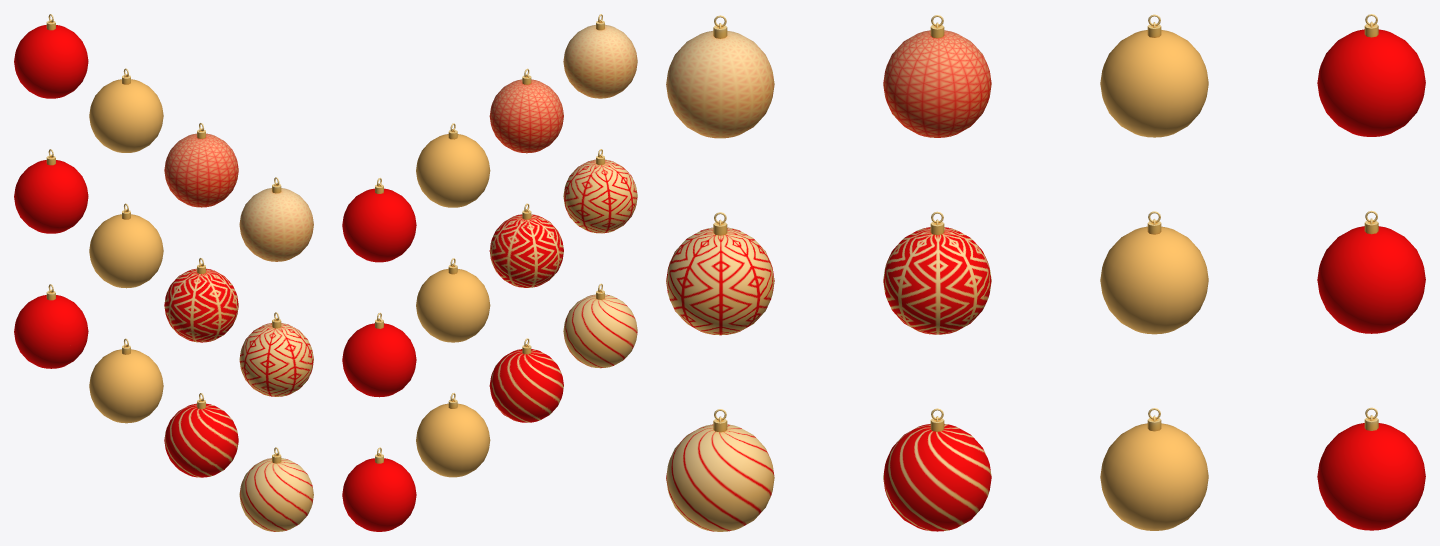
File: game_ready__free_christmas_tree_balls.glb
3 views of the same model, side by side, from view 1: azimuth 30°, elevation 25°; view 2: azimuth 150°, elevation 25°; view 3: azimuth 270°, elevation 25° (orthographic). The views are drawn at different scales.
Visible parts, largest first — view 1: Christmas_Tree_Balls_01, Christmas_Tree_Balls_11, Christmas_Tree_Balls_00, Christmas_Tree_Balls_05, Christmas_Tree_Balls_03, Christmas_Tree_Balls_09, Christmas_Tree_Balls_07, Christmas_Tree_Balls_04, Christmas_Tree_Balls_08, Christmas_Tree_Balls_02, Christmas_Tree_Balls_06, Christmas_Tree_Balls_10; view 2: Christmas_Tree_Balls_03, Christmas_Tree_Balls_05, Christmas_Tree_Balls_09, Christmas_Tree_Balls_04, Christmas_Tree_Balls_00, Christmas_Tree_Balls_01, Christmas_Tree_Balls_02, Christmas_Tree_Balls_06, Christmas_Tree_Balls_10, Christmas_Tree_Balls_08, Christmas_Tree_Balls_07, Christmas_Tree_Balls_11; view 3: Christmas_Tree_Balls_02, Christmas_Tree_Balls_11, Christmas_Tree_Balls_06, Christmas_Tree_Balls_00, Christmas_Tree_Balls_09, Christmas_Tree_Balls_03, Christmas_Tree_Balls_05, Christmas_Tree_Balls_04, Christmas_Tree_Balls_07, Christmas_Tree_Balls_08, Christmas_Tree_Balls_01, Christmas_Tree_Balls_10.
Part boxes in pixels (x1,y1,x2,y2): Christmas_Tree_Balls_01: (164, 123, 238, 207); Christmas_Tree_Balls_11: (14, 284, 88, 368); Christmas_Tree_Balls_00: (239, 177, 313, 261); Christmas_Tree_Balls_05: (164, 258, 238, 342); Christmas_Tree_Balls_03: (14, 14, 88, 98); Christmas_Tree_Balls_09: (164, 393, 238, 477); Christmas_Tree_Balls_07: (14, 149, 88, 233); Christmas_Tree_Balls_04: (239, 312, 313, 396); Christmas_Tree_Balls_08: (239, 447, 313, 531); Christmas_Tree_Balls_02: (89, 68, 163, 152); Christmas_Tree_Balls_06: (89, 203, 163, 288); Christmas_Tree_Balls_10: (89, 338, 163, 423); Christmas_Tree_Balls_03: (342, 178, 416, 262); Christmas_Tree_Balls_05: (489, 203, 563, 287); Christmas_Tree_Balls_09: (489, 338, 563, 422); Christmas_Tree_Balls_04: (563, 149, 637, 233); Christmas_Tree_Balls_00: (563, 14, 637, 98); Christmas_Tree_Balls_01: (489, 68, 563, 153); Christmas_Tree_Balls_02: (416, 123, 490, 207); Christmas_Tree_Balls_06: (416, 258, 490, 342); Christmas_Tree_Balls_10: (416, 393, 490, 477); Christmas_Tree_Balls_08: (563, 283, 637, 368); Christmas_Tree_Balls_07: (342, 312, 416, 397); Christmas_Tree_Balls_11: (342, 447, 416, 531); Christmas_Tree_Balls_02: (1100, 14, 1208, 137); Christmas_Tree_Balls_11: (1317, 407, 1425, 530); Christmas_Tree_Balls_06: (1100, 211, 1208, 334); Christmas_Tree_Balls_00: (666, 15, 774, 138); Christmas_Tree_Balls_09: (883, 408, 991, 531); Christmas_Tree_Balls_03: (1317, 14, 1425, 136); Christmas_Tree_Balls_05: (883, 211, 991, 334); Christmas_Tree_Balls_04: (666, 212, 774, 335); Christmas_Tree_Balls_07: (1317, 210, 1425, 333); Christmas_Tree_Balls_08: (666, 409, 774, 531); Christmas_Tree_Balls_01: (883, 15, 991, 137); Christmas_Tree_Balls_10: (1100, 408, 1208, 530).
Size of the model in its own units: 0.103 by 0.5202 by 0.7.
1 material, 1 textured.
